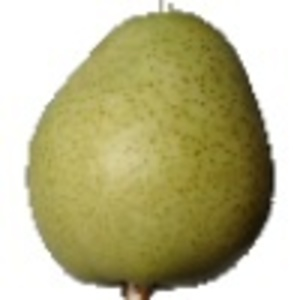pera: (24, 3, 276, 300)
